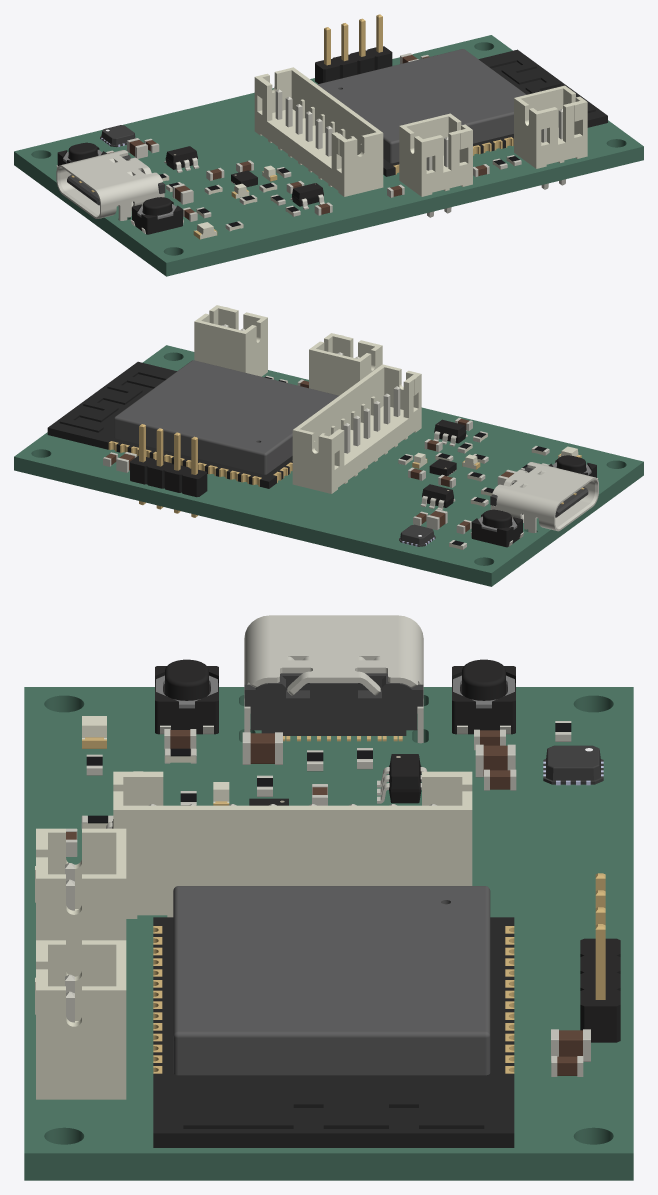
The model's file is glucobit-v2.glb.
3 renders of one model, top to bottom at view 1: azimuth 30°, elevation 25°; view 2: azimuth 150°, elevation 25°; view 3: azimuth 270°, elevation 25°, orthographic. The views are drawn at different scales.
Visible parts, largest first — view 1: =>[0:1:1:17], U1, U6, J6, J2, J1, J3, SW1, SW2, U4, U3, U5; view 2: =>[0:1:1:17], U1, U6, J1, J2, J6, J3, SW2, U3, U4, SW1, U5; view 3: =>[0:1:1:17], U1, U6, J1, J2, J6, J3, SW2, SW1, U5, U4, C5 (+3 smaller).
Part boxes in pixels (left/top/right/bottom): =>[0:1:1:17]: left=14, top=35, right=643, bottom=276; U1: left=317, top=49, right=607, bottom=176; U6: left=254, top=67, right=383, bottom=196; J6: left=399, top=113, right=472, bottom=217; J2: left=514, top=85, right=587, bottom=189; J1: left=56, top=150, right=165, bottom=220; J3: left=315, top=14, right=392, bottom=83; SW1: left=130, top=197, right=183, bottom=234; SW2: left=56, top=142, right=106, bottom=167; U4: left=164, top=146, right=199, bottom=172; U3: left=290, top=183, right=324, bottom=209; U5: left=100, top=125, right=135, bottom=147; =>[0:1:1:17]: left=14, top=345, right=643, bottom=586; U1: left=47, top=360, right=338, bottom=488; U6: left=292, top=364, right=421, bottom=493; J1: left=490, top=462, right=598, bottom=533; J2: left=194, top=305, right=267, bottom=376; J6: left=309, top=333, right=382, bottom=395; J3: left=130, top=424, right=207, bottom=517; SW2: left=470, top=509, right=523, bottom=547; U3: left=433, top=419, right=467, bottom=446; U4: left=420, top=484, right=455, bottom=510; SW1: left=548, top=455, right=598, bottom=478; U5: left=399, top=524, right=435, bottom=546; =>[0:1:1:17]: left=24, top=687, right=633, bottom=1180; U1: left=153, top=886, right=514, bottom=1147; U6: left=113, top=771, right=472, bottom=918; J1: left=244, top=615, right=423, bottom=743; J2: left=35, top=940, right=126, bottom=1099; J6: left=35, top=828, right=126, bottom=976; J3: left=580, top=873, right=620, bottom=1042; SW2: left=452, top=659, right=515, bottom=734; SW1: left=155, top=659, right=218, bottom=734; U5: left=543, top=745, right=603, bottom=785; U4: left=377, top=754, right=427, bottom=803; C5: left=242, top=732, right=282, bottom=764.
Size of the model in its own units: 0.0562 by 0.0094 by 0.0304.
